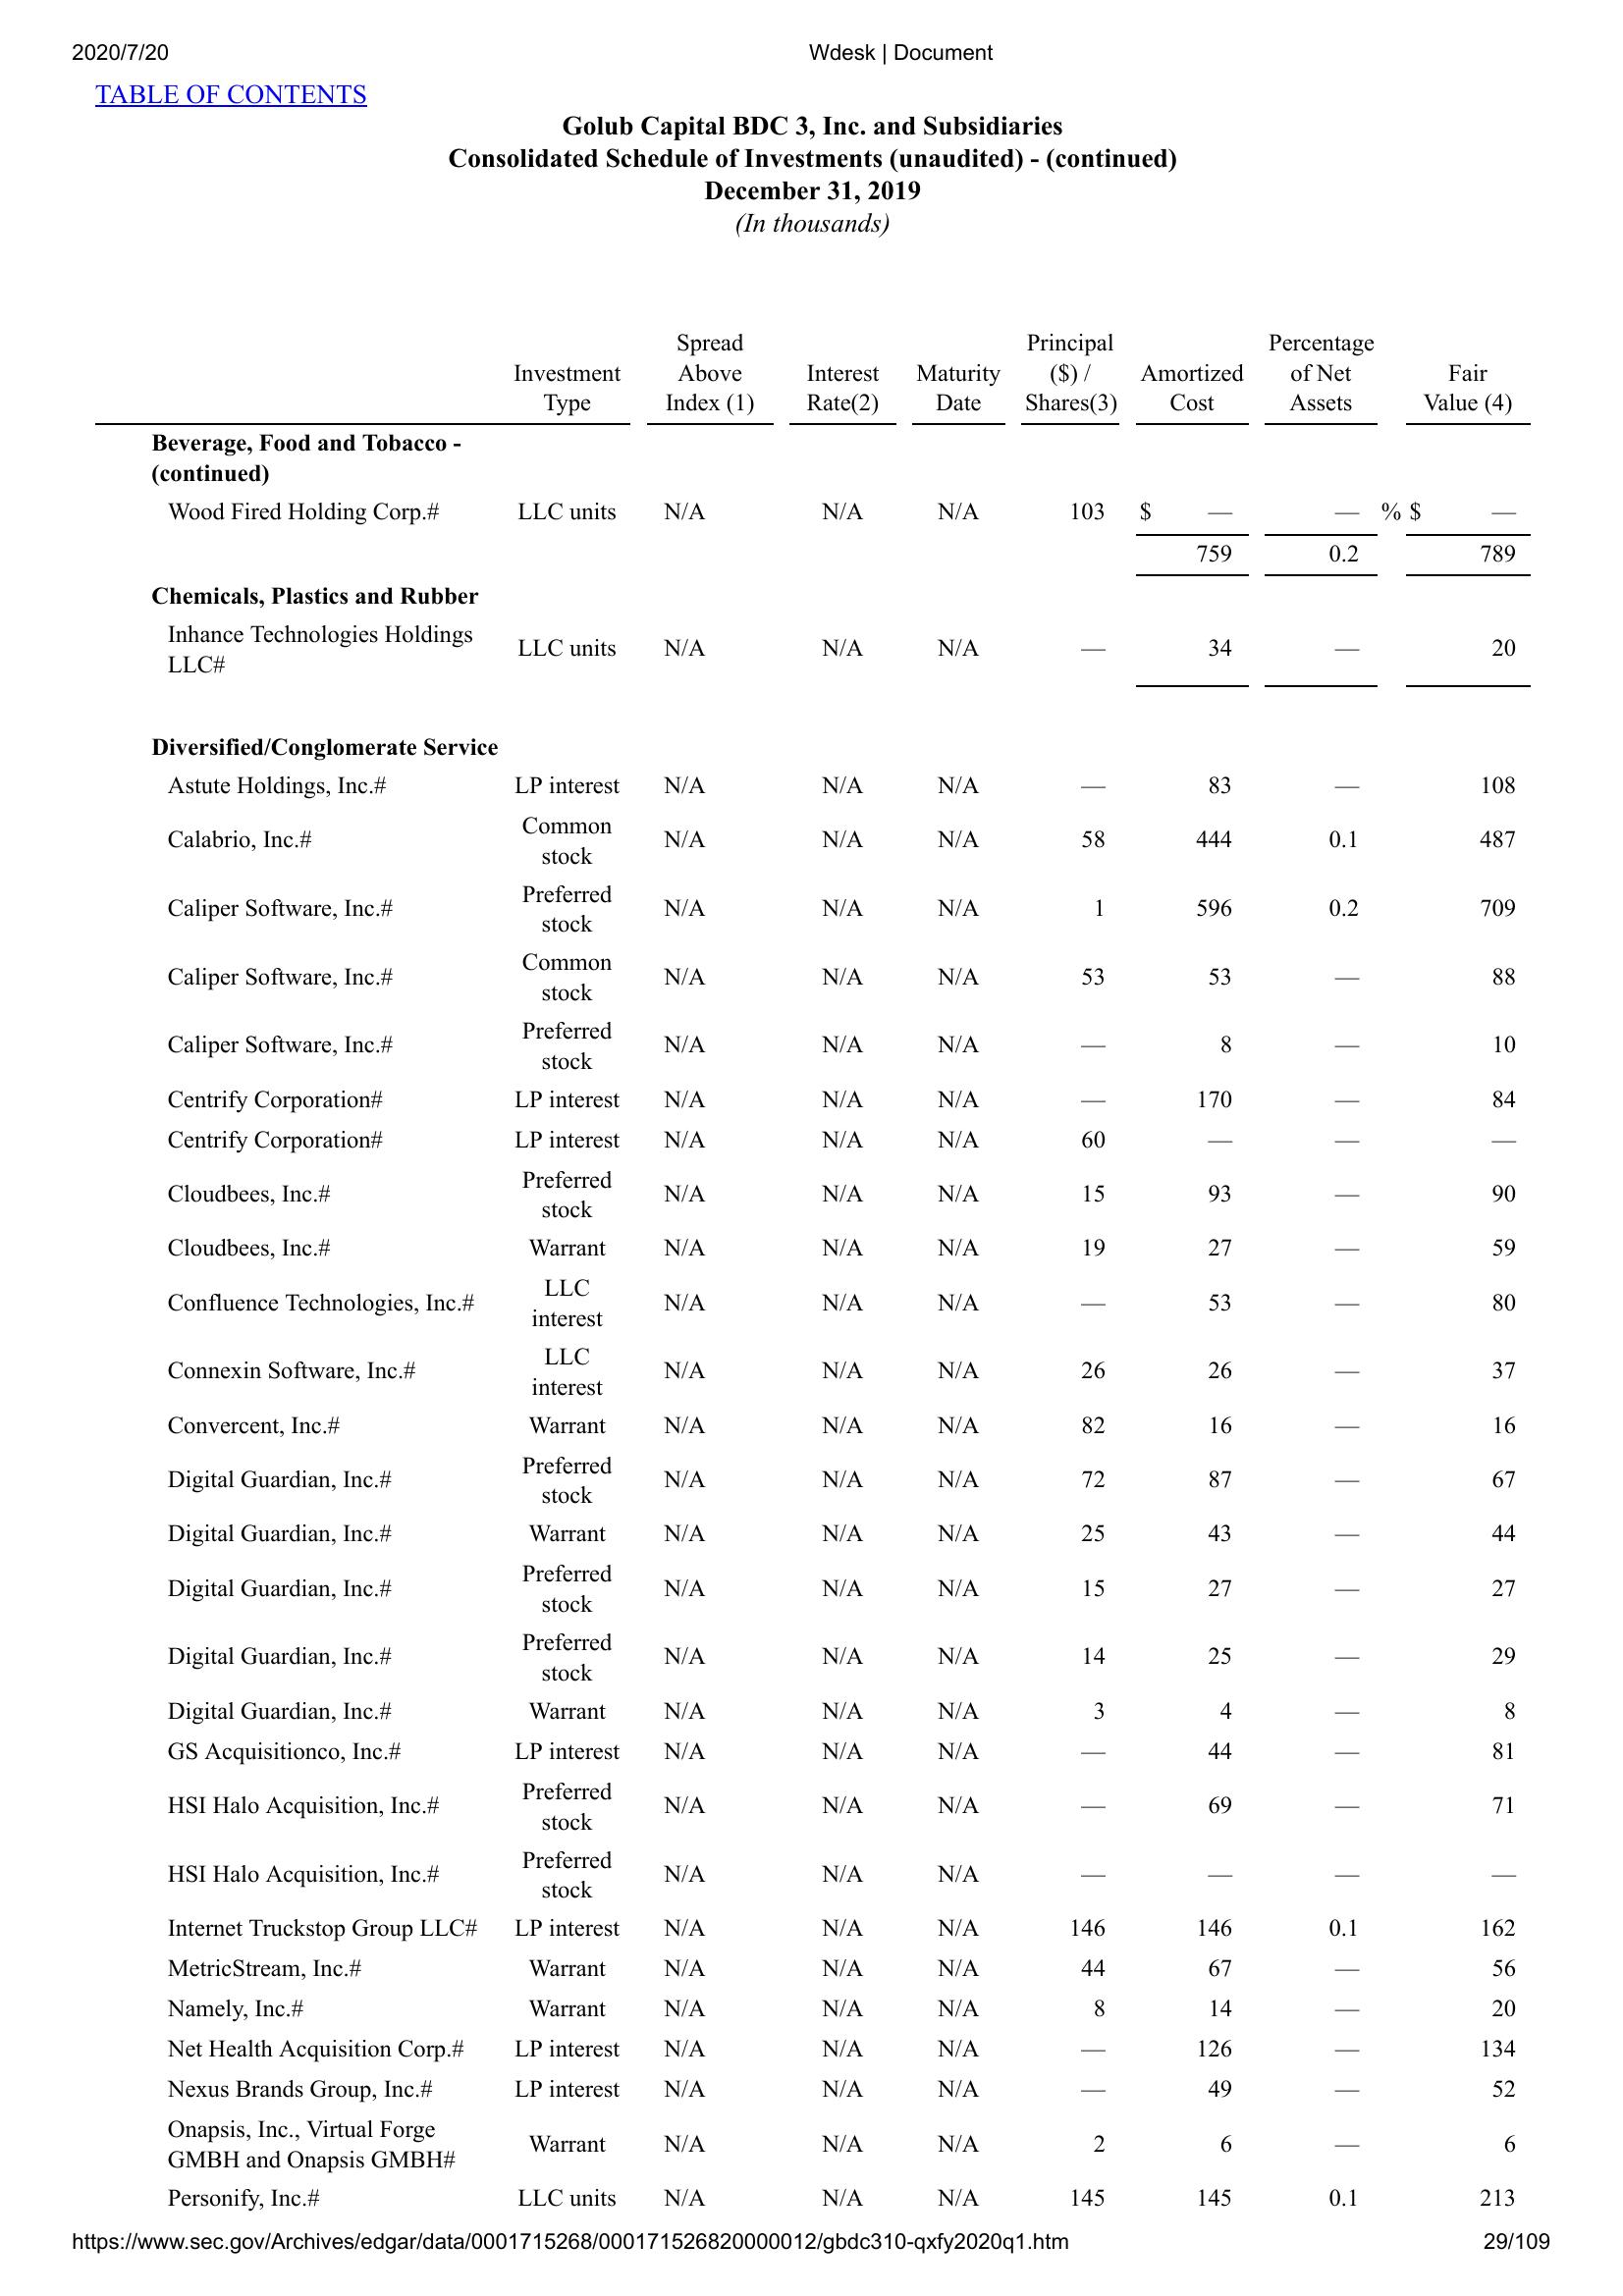table: (86, 326, 1535, 2215)
